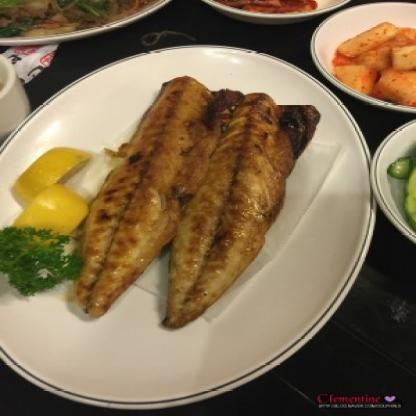Peixe: (24, 76, 352, 327)
